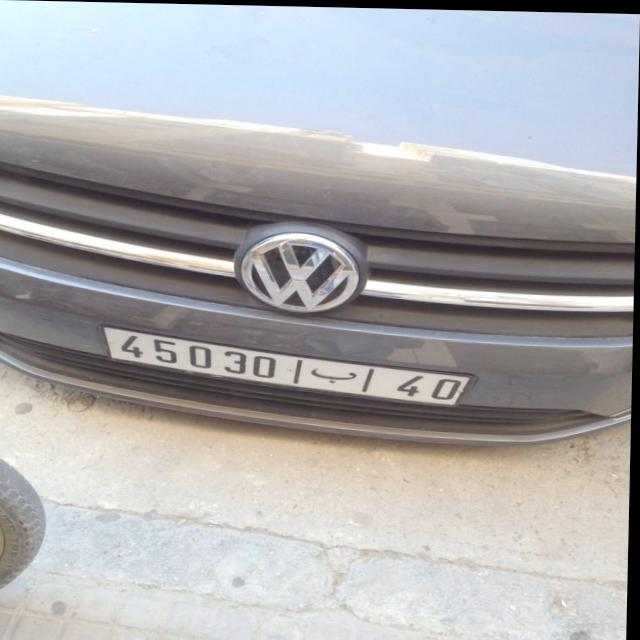License-Plate: (106, 327, 472, 403)
